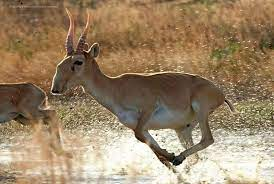saiga: (50, 6, 237, 171)
